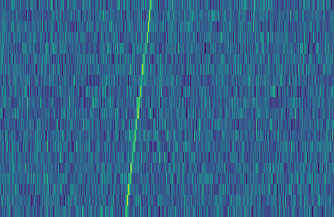signal: (120, 0, 156, 217)
